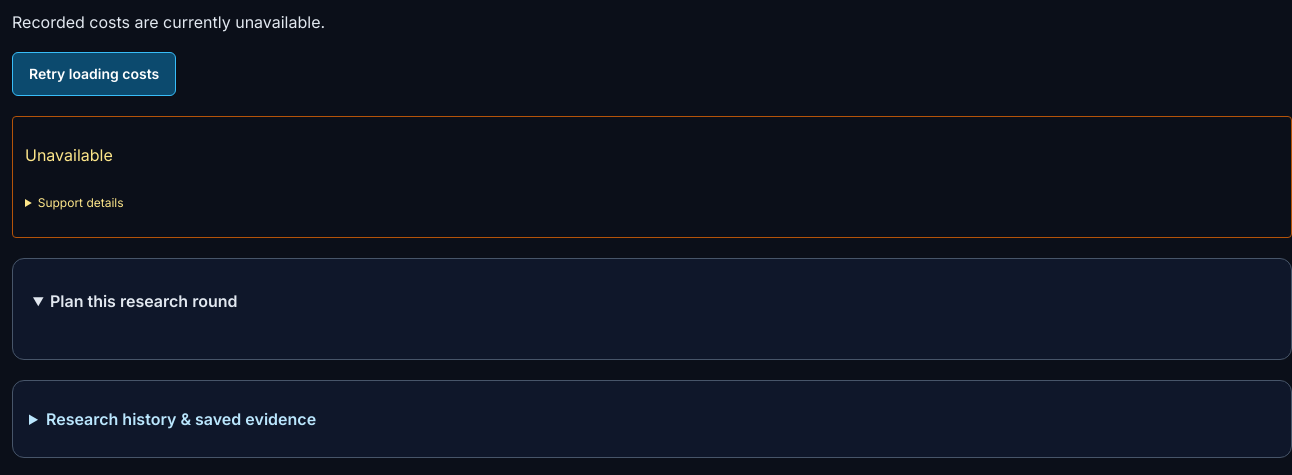
Test: MB-UX-QUALITY-002 L04 routes an explicit cost-read 401 through session recovery without a mutation
This screenshot has width=1292, height=475.
Click the button "Retry loading costs".
click(94, 74)  # box [12, 52, 176, 96]
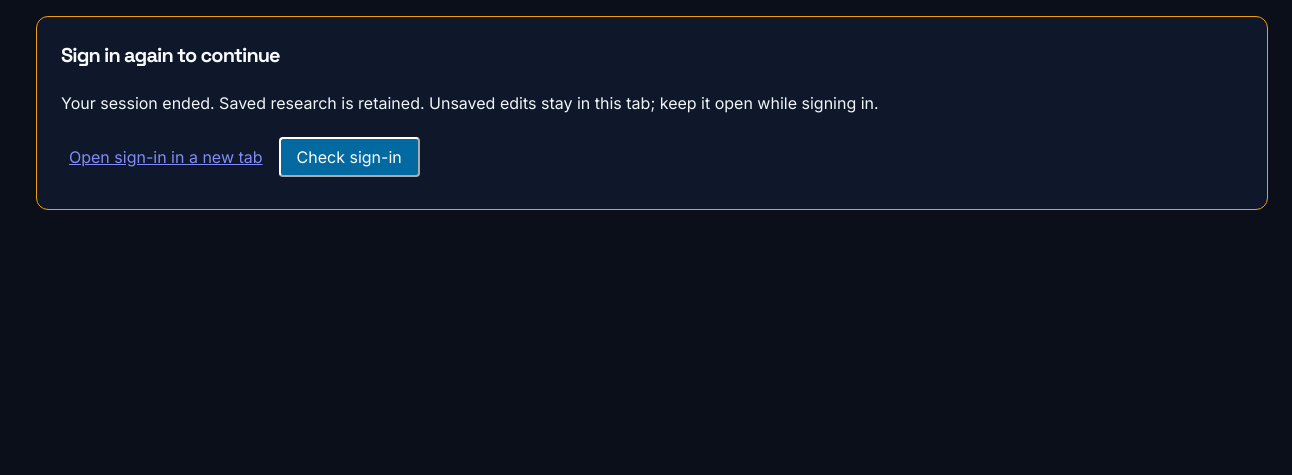
Now the heading "Sign in again to continue" is shown, box [61, 41, 281, 69]
